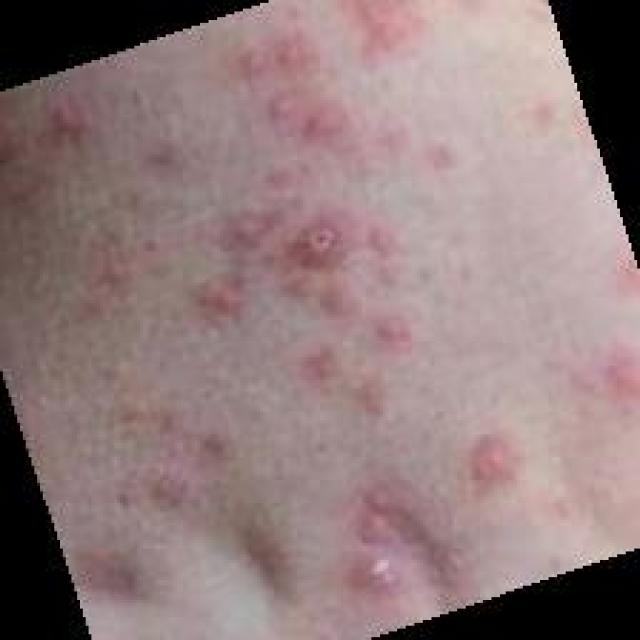monkeypox: (29, 12, 620, 604)
